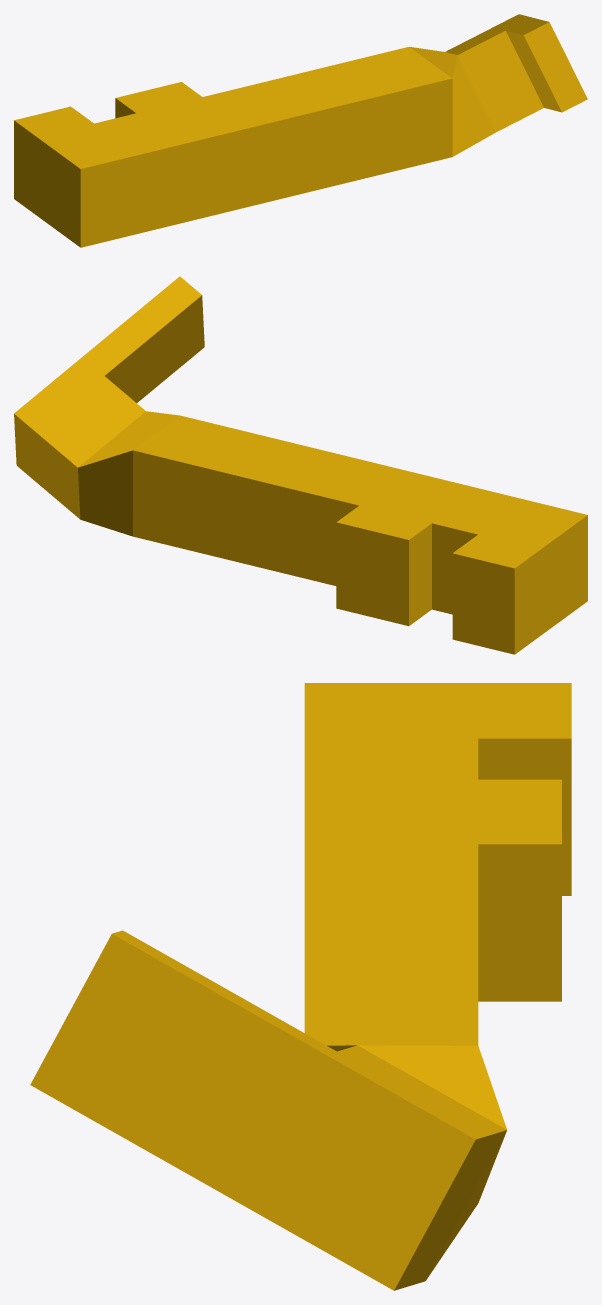
The model's file is Key.fbx.
3 renders of one model, top to bottom at view 1: azimuth 30°, elevation 25°; view 2: azimuth 150°, elevation 25°; view 3: azimuth 270°, elevation 25°, orthographic. The views are drawn at different scales.
Parts seen in each view (by area): view 1: Cube; view 2: Cube; view 3: Cube.
Boxes of the visible parts, x1,y1,x2,y2 form: Cube: (14,14,587,247); Cube: (14,276,587,654); Cube: (30,683,571,1290).
Bounding box in the file's own units: 1327 × 426 × 624.
